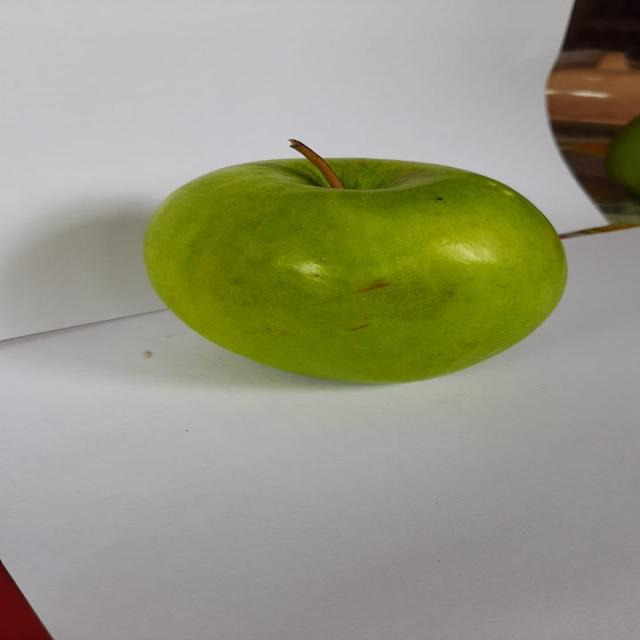50-_ripeness: (132, 133, 576, 394)
